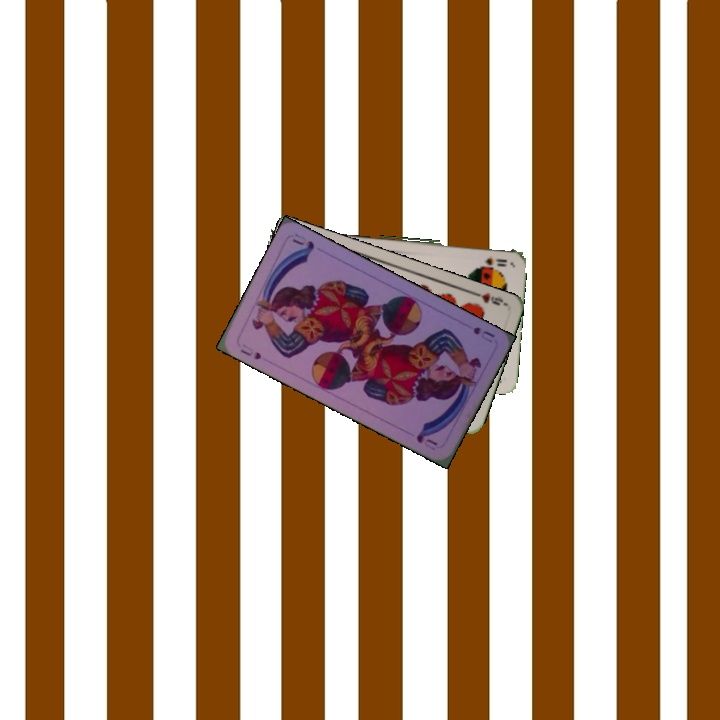H9: (469, 287, 508, 308)
SO: (480, 254, 510, 267)
SU: (468, 323, 497, 345), (236, 340, 264, 362)
